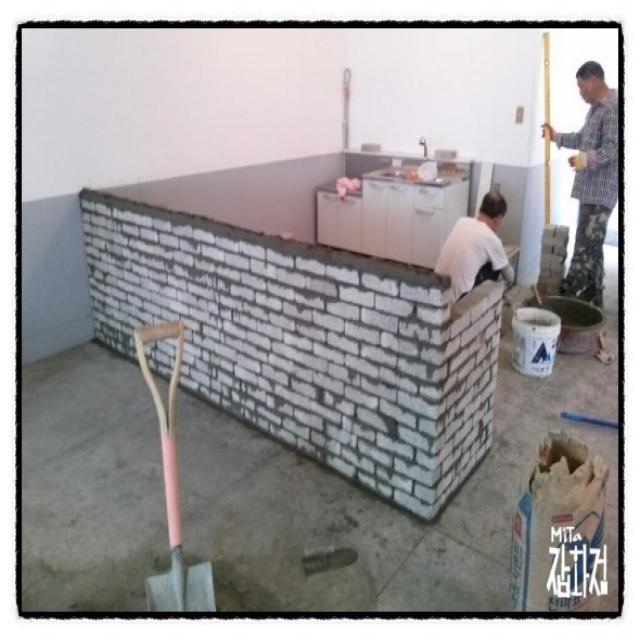basin: (521, 295, 607, 353)
bricks: (79, 187, 504, 521), (538, 222, 569, 294)
concrete bag: (508, 431, 609, 610)
plastic barrel: (512, 308, 560, 377)
